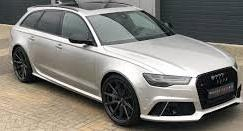Crossovers: (9, 7, 241, 125), (9, 8, 241, 125)
